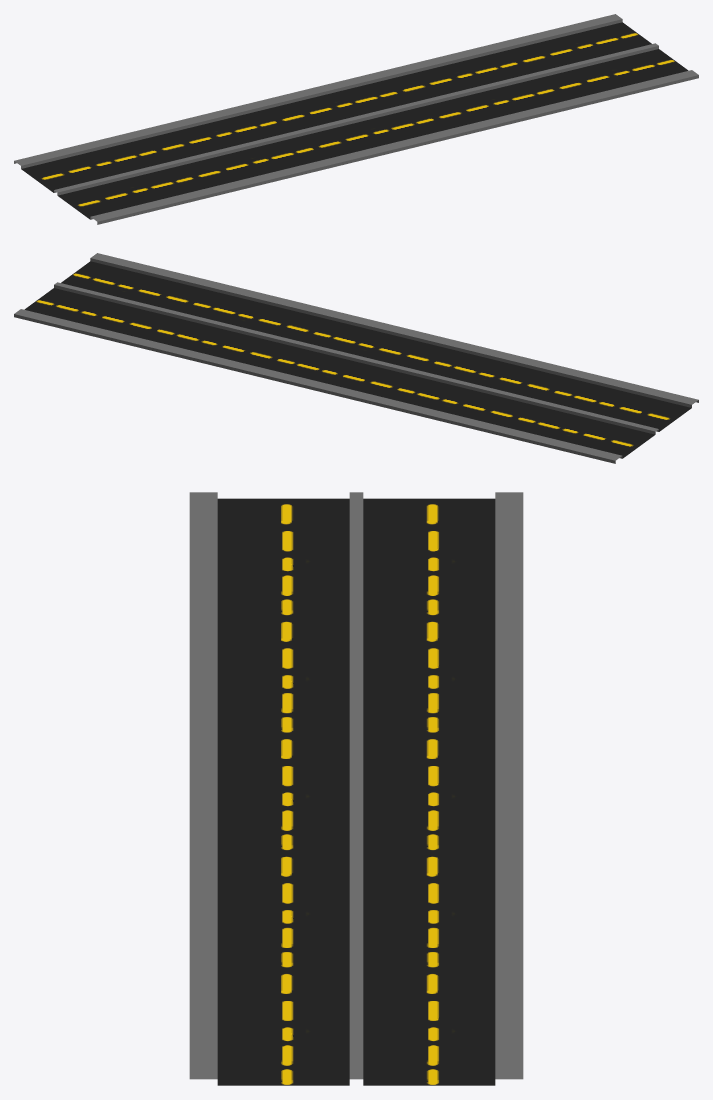
The model's file is Road.fbx.
3 renders of one model, top to bottom at view 1: azimuth 30°, elevation 25°; view 2: azimuth 150°, elevation 25°; view 3: azimuth 270°, elevation 25°, orthographic. The views are drawn at different scales.
Visible parts, largest first — view 1: Plane; view 2: Plane; view 3: Plane.
Boxes of the visible parts, bbox=[...] form: Plane: bbox=[14, 14, 698, 224]; Plane: bbox=[14, 253, 698, 463]; Plane: bbox=[189, 492, 523, 1085].
Bounding box in the file's own units: 2400 × 50 × 10000.
